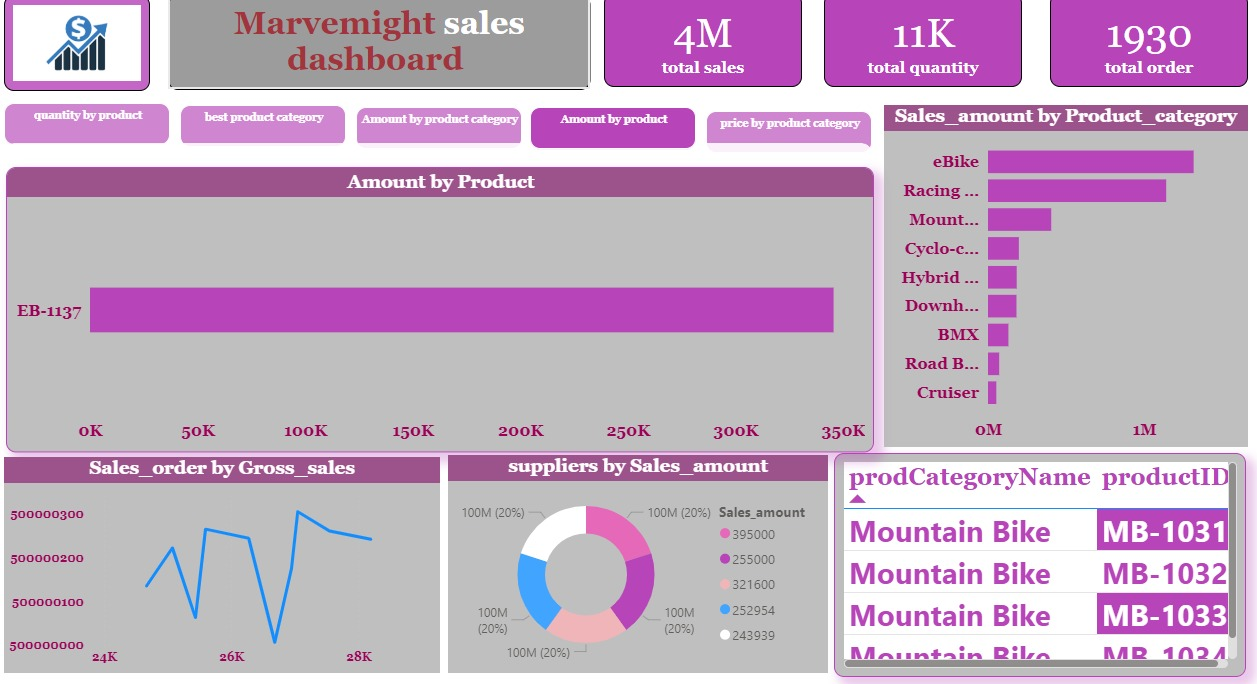

What the dashboard file says about the page in this screenshot:
{"tool":"powerbi","page":{"name":"product report","canvas":[1280,720],"ordinal":0},"visuals":[{"type":"group","id":"g1","title":"header","box":[18.5,14,1243.5,684],"z":0},{"type":"barChart","fields":{"Y":["Sum(Query2.price)"],"Category":["Query2.product_category"]},"box":[28,178,860,286],"z":0,"group":"g4"},{"type":"tableEx","fields":{"Values":["Query3.prodCategoryName","Query3.productID"]},"box":[848.5,474,412,224],"z":0,"group":"g1"},{"type":"actionButton","title":"price by product category","box":[720,130,166,42],"z":500,"group":"g3"},{"type":"textbox","box":[182.5,15,422.5,95],"z":1000,"group":"g1"},{"type":"group","id":"g2","title":"inactive btn","box":[18,124,868,50],"z":1000},{"type":"card","fields":{"Values":["final_project sales_order.total sales"]},"box":[618,14,198,94],"z":2000,"group":"g1"},{"type":"shape","box":[18,164,868,278],"z":2000},{"type":"actionButton","title":"price by product category","box":[720,132,166,42],"z":2500,"group":"g2"},{"type":"card","fields":{"Values":["final_project sales_order.total quantity"]},"box":[838,14,198,94],"z":3000,"group":"g1"},{"type":"group","id":"g3","title":"active btn","box":[18,122,868,50],"z":3000},{"type":"actionButton","title":"Amount by product","box":[544.5,130,166,42],"z":3000,"group":"g2"},{"type":"card","fields":{"Values":["final_project sales_order.total order"]},"box":[1064,14,198,94],"z":4000,"group":"g1"},{"type":"group","id":"g4","title":"chart","box":[20,178,870,296],"z":4000},{"type":"actionButton","title":"Amount by product category","box":[369,128,166,42],"z":4125,"group":"g2"},{"type":"actionButton","title":"best product category","box":[193.5,126,166,42],"z":4250,"group":"g2"},{"type":"actionButton","title":"quantity by product","box":[18,124,166,42],"z":4500,"group":"g2"},{"type":"image","box":[18.5,16,146,96],"z":5000,"group":"g1"},{"type":"barChart","fields":{"Category":["Query4.Product_category"],"Y":["Sum(Query4.Sales_amount)"]},"box":[898,126,364,342],"z":5000},{"type":"donutChart","fields":{"Category":["Query5.Sales_amount"],"Y":["Sum(Query5.suppliers)"]},"box":[462,476,380,218],"z":5001},{"type":"lineChart","fields":{"Category":["Query6.Gross_sales"],"Y":["Sum(Query6.Sales_order)"]},"box":[18,478,436,216],"z":5002}]}

Visuals, with their boxes on the page's 1280x720 design canvas (x1, y1, x2, y2). These are canvas units, not pixel positions in the 1257x684 screenshot, which may show the page scaled, cropped or inside an application window:
"header" group: rect(18, 14, 1262, 698)
barChart - Sum(Query2.price) x Query2.product_category: rect(28, 178, 888, 464)
tableEx - Query3.prodCategoryName x Query3.productID: rect(848, 474, 1260, 698)
"price by product category" actionButton: rect(720, 130, 886, 172)
textbox: rect(182, 15, 605, 110)
"inactive btn" group: rect(18, 124, 886, 174)
card - final_project sales_order.total sales: rect(618, 14, 816, 108)
shape: rect(18, 164, 886, 442)
"price by product category" actionButton: rect(720, 132, 886, 174)
card - final_project sales_order.total quantity: rect(838, 14, 1036, 108)
"active btn" group: rect(18, 122, 886, 172)
"Amount by product" actionButton: rect(544, 130, 710, 172)
card - final_project sales_order.total order: rect(1064, 14, 1262, 108)
"chart" group: rect(20, 178, 890, 474)
"Amount by product category" actionButton: rect(369, 128, 535, 170)
"best product category" actionButton: rect(194, 126, 360, 168)
"quantity by product" actionButton: rect(18, 124, 184, 166)
image: rect(18, 16, 164, 112)
barChart - Query4.Product_category x Sum(Query4.Sales_amount): rect(898, 126, 1262, 468)
donutChart - Query5.Sales_amount x Sum(Query5.suppliers): rect(462, 476, 842, 694)
lineChart - Query6.Gross_sales x Sum(Query6.Sales_order): rect(18, 478, 454, 694)
